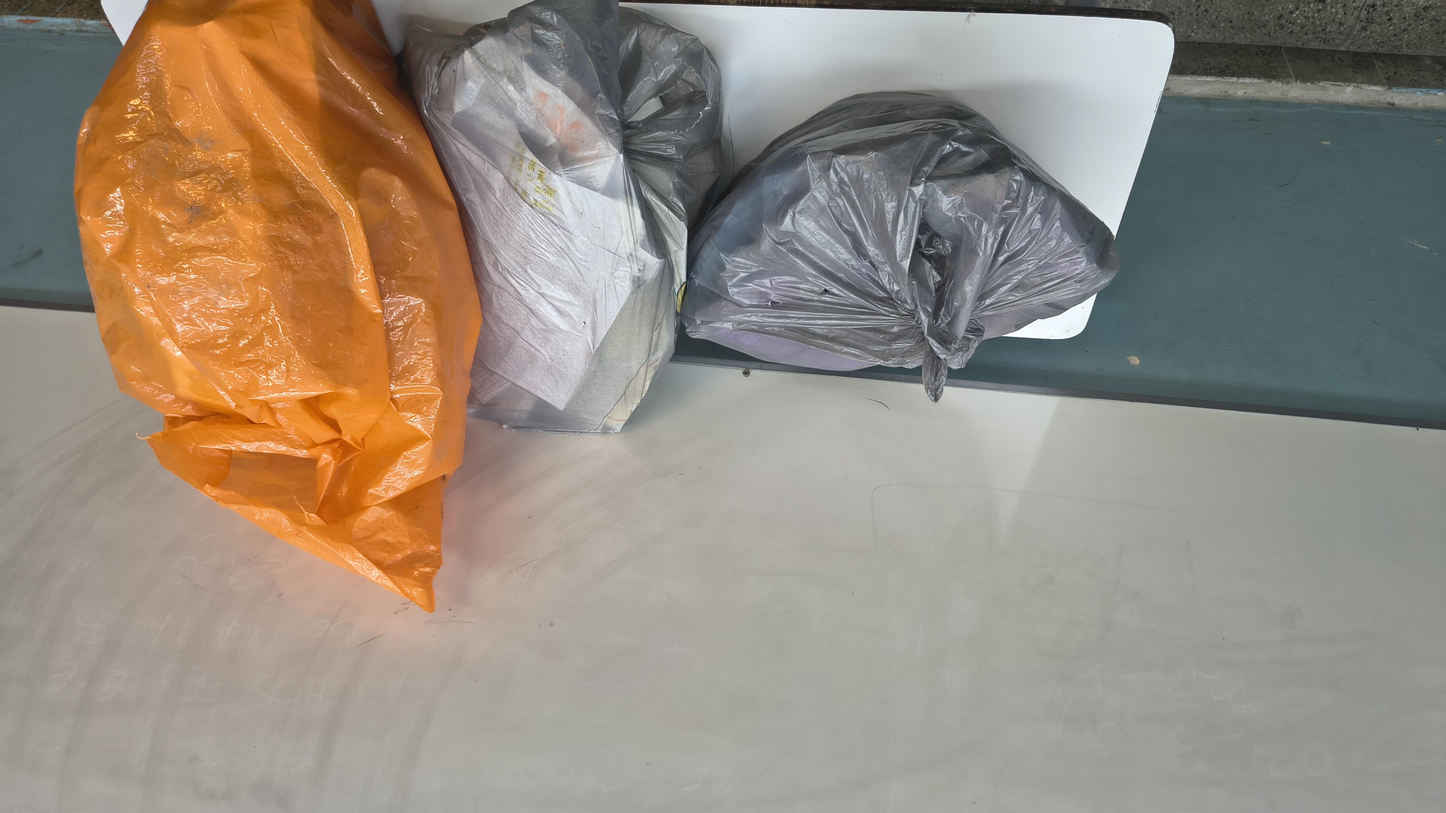Garbage: (960, 183, 1394, 813), (309, 404, 759, 760), (752, 363, 1075, 810)
